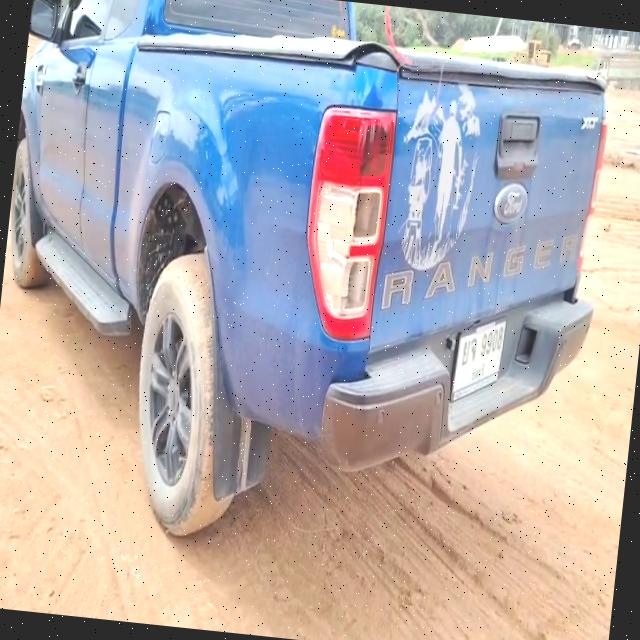Digit: (480, 324, 502, 359)
Licenseplate: (450, 318, 509, 405)
Provincename: (468, 360, 488, 384)
Thaichar: (458, 333, 478, 368)
